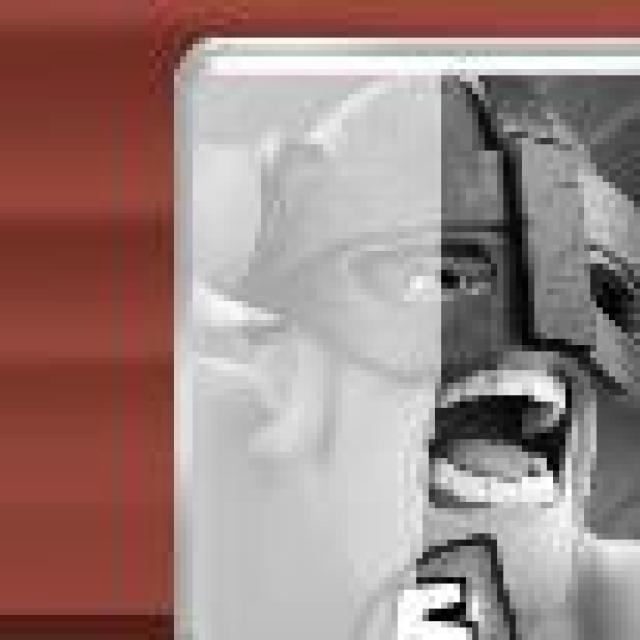Elite_Barbarians: (164, 30, 640, 640)
